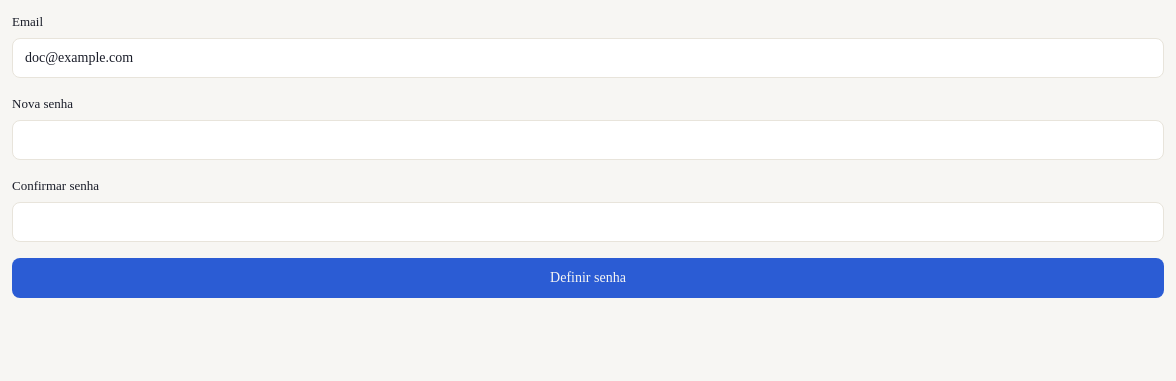
it: SetPasswordForm (integration) › with token › shows "já foi utilizado" message on 422 already-used error
Step 1. Type "password123" into the password field with test id "set-password-password" → [588, 140], box [12, 120, 1164, 160]
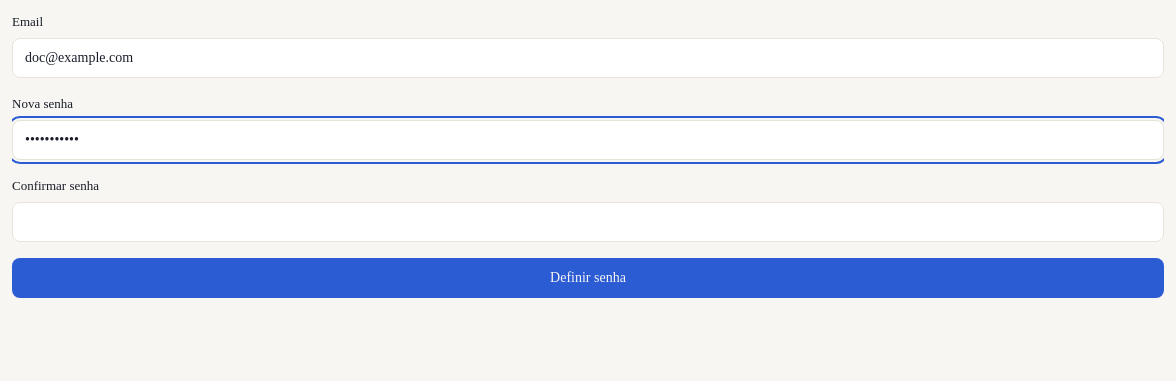
Step 2. Type "password123" into the password field with test id "set-password-confirm-password" → [588, 222], box [12, 202, 1164, 242]
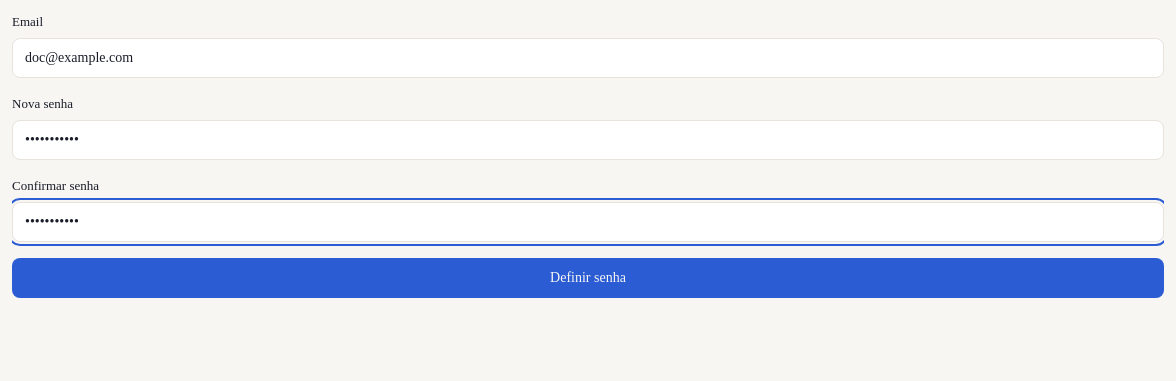
Step 3. Click the button with test id "set-password-submit" → [588, 278], box [12, 258, 1164, 298]
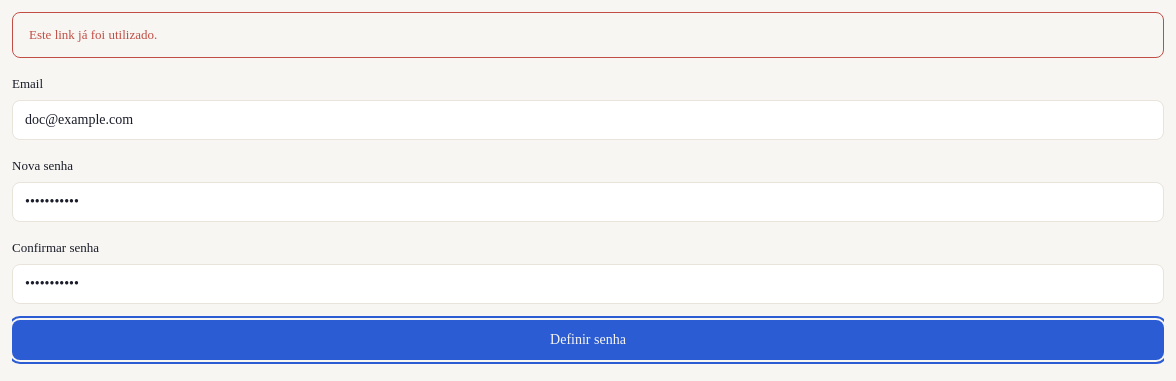
Now the message with test id "set-password-error" reads "Este link já foi utilizado.", box [29, 27, 157, 42]
